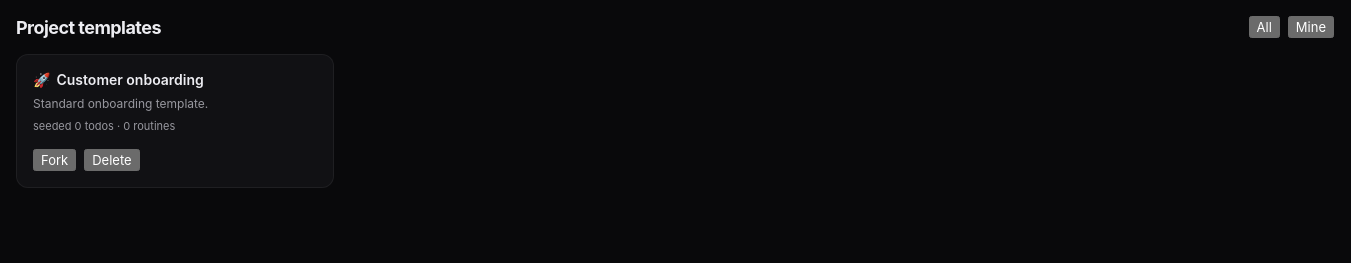
Test: TemplateGalleryRoute mutations › surfaces a pending-error banner when fork fails (sub-PRD §7.4 rollback)
Click the button with test id "template-gallery-route-fork".
click(55, 160)  # box [33,149,76,171]
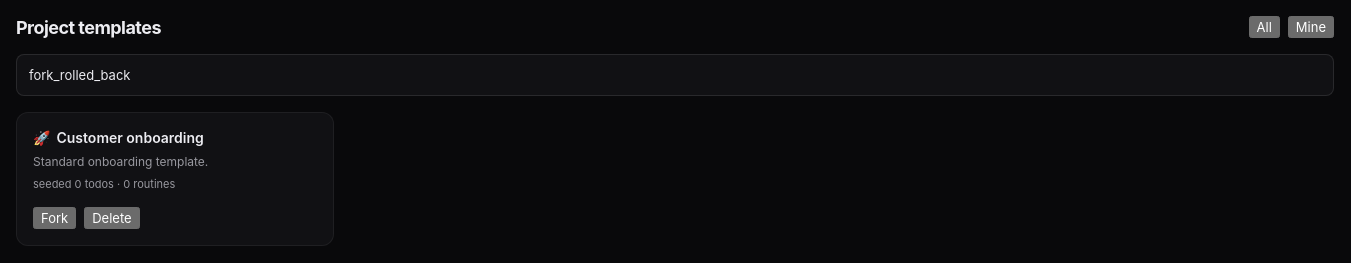
Check: the list item with test id "template-gallery-route-card" is shown, box [16,112,334,246]
Check: the message "fork_rolled_back" is shown, box [16,54,1334,96]
Check: the message with test id "template-gallery-route-pending-error" reads "fork_rolled_back", box [29,67,130,83]
